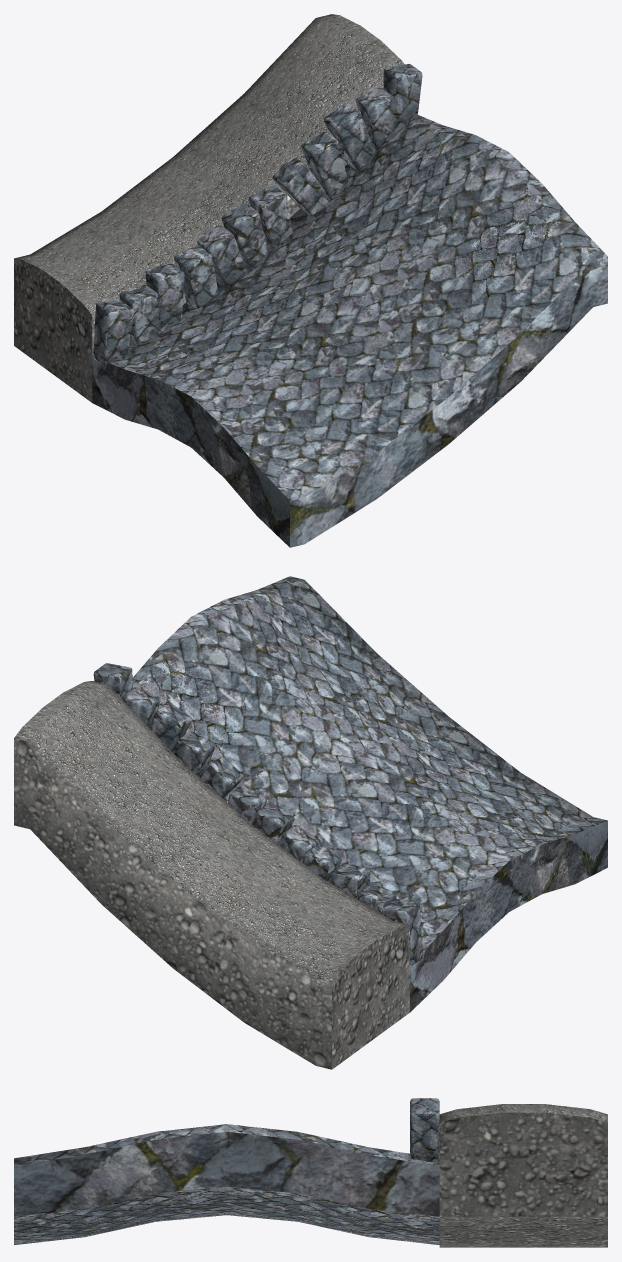
Rendered from StreetSlant_Up_4x2m.fbx.
3 views of the same model, one above another, from view 1: azimuth 30°, elevation 25°; view 2: azimuth 150°, elevation 25°; view 3: azimuth 270°, elevation 25° (orthographic). The views are drawn at different scales.
Parts seen in each view (by area): view 1: VictorianBiome.StreetSlantUp.4x2m; view 2: VictorianBiome.StreetSlantUp.4x2m; view 3: VictorianBiome.StreetSlantUp.4x2m.
Boxes of the visible parts, <box> form: VictorianBiome.StreetSlantUp.4x2m: <box>14,14,607,547</box>; VictorianBiome.StreetSlantUp.4x2m: <box>14,576,607,1069</box>; VictorianBiome.StreetSlantUp.4x2m: <box>14,1098,607,1247</box>.
Bounding box in the file's own units: 4 × 3.17 × 6.
